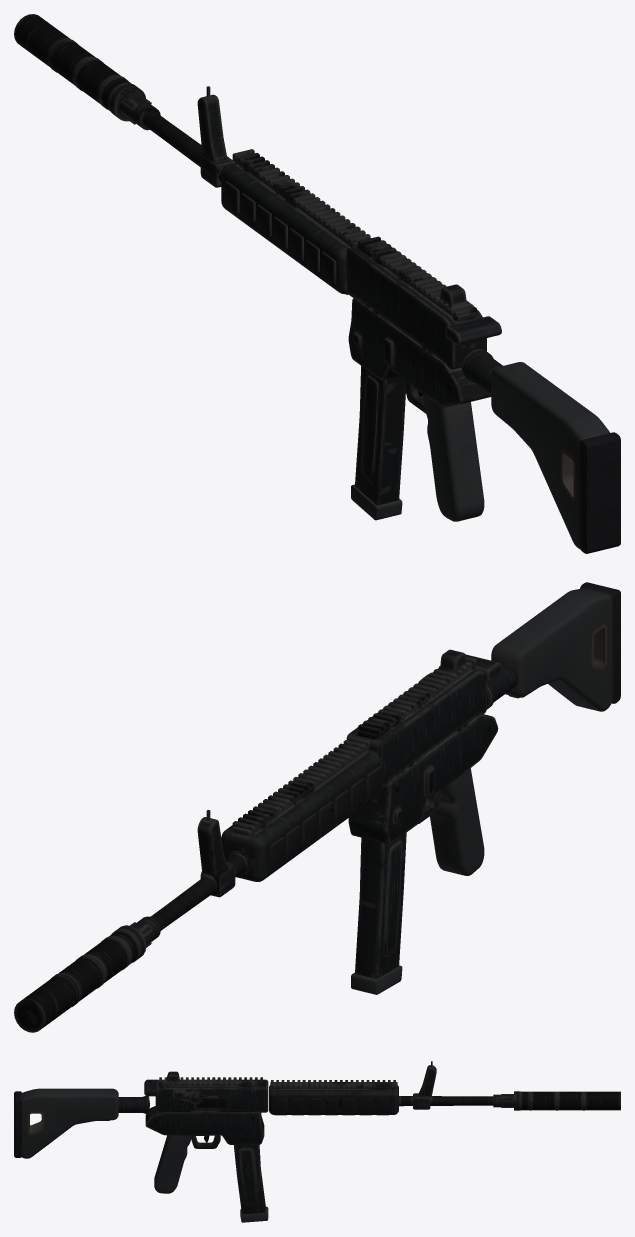
The picture shows the model from 3 angles, top to bottom: view 1: azimuth 30°, elevation 25°; view 2: azimuth 150°, elevation 25°; view 3: azimuth 270°, elevation 25°; orthographic projection. The views are drawn at different scales.
Parts seen in each view (by area): view 1: body_receiver, body_furniture, body_metal, mag_receiver, suppressor_receiver, bolt_receiver, mag_furniture; view 2: body_receiver, body_furniture, mag_receiver, suppressor_receiver, body_metal, mag_furniture; view 3: body_receiver, body_furniture, suppressor_receiver, body_metal, mag_receiver, mag_furniture, bolt_receiver.
Part boxes in pixels (x1=…): body_receiver: x1=120, y1=86, x2=502, y2=413; body_furniture: x1=422, y1=362, x2=609, y2=548; body_metal: x1=224, y1=181, x2=620, y2=553; mag_receiver: x1=355, y1=366, x2=405, y2=505; suppressor_receiver: x1=14, y1=14, x2=145, y2=121; bolt_receiver: x1=445, y1=316, x2=501, y2=344; mag_furniture: x1=351, y1=484, x2=402, y2=520; body_receiver: x1=130, y1=649, x2=518, y2=947; body_furniture: x1=429, y1=588, x2=611, y2=875; mag_receiver: x1=355, y1=833, x2=406, y2=978; suppressor_receiver: x1=14, y1=925, x2=146, y2=1032; body_metal: x1=270, y1=582, x2=620, y2=869; mag_furniture: x1=351, y1=965, x2=402, y2=994; body_receiver: x1=118, y1=1061, x2=513, y2=1148; body_furniture: x1=22, y1=1088, x2=191, y2=1193; suppressor_receiver: x1=514, y1=1091, x2=620, y2=1110; body_metal: x1=14, y1=1091, x2=389, y2=1157; mag_receiver: x1=233, y1=1145, x2=265, y2=1214; mag_furniture: x1=240, y1=1206, x2=268, y2=1222; bolt_receiver: x1=144, y1=1079, x2=159, y2=1096.
Bounding box in the file's own units: 0.0618 × 0.3281 × 1.14.
Materials: 7 (7 with a texture image).
